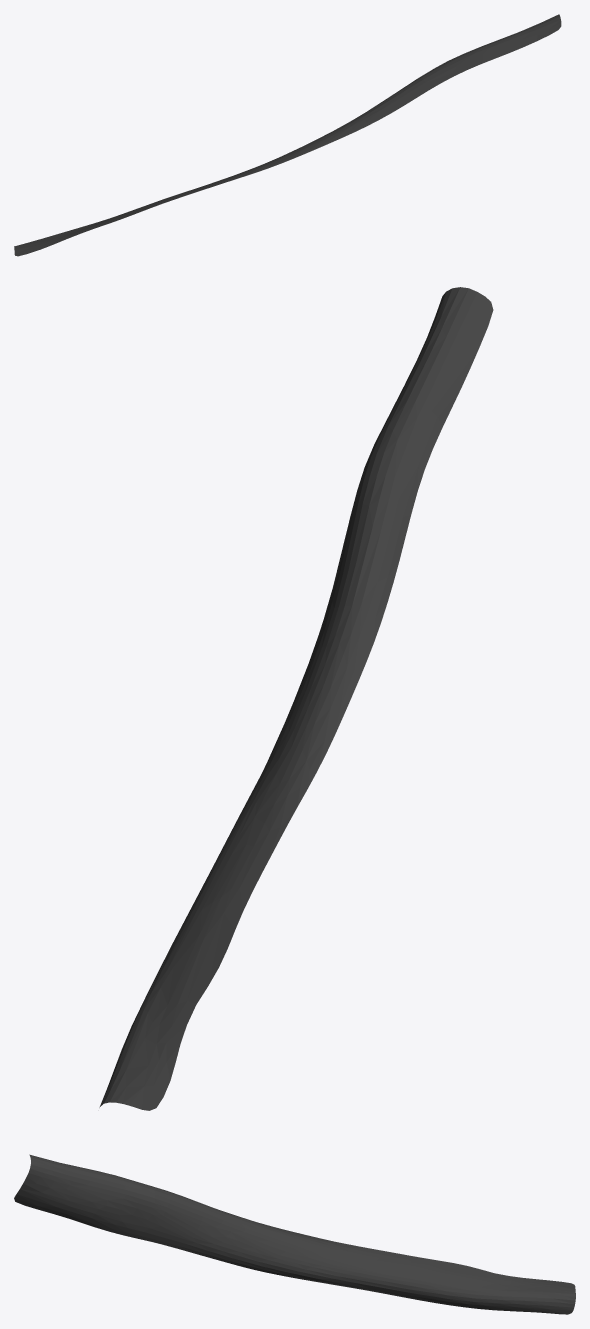
File: Scapula_caudal_border.glb
3 views of the same model, one above another, from view 1: azimuth 90°, elevation 25°; view 2: azimuth 150°, elevation 25°; view 3: azimuth 270°, elevation 25° (orthographic). The views are drawn at different scales.
Parts seen in each view (by area): view 1: Scapula_caudal_border; view 2: Scapula_caudal_border; view 3: Scapula_caudal_border.
Boxes of the visible parts, x1,y1,x2,y2 form: Scapula_caudal_border: (14, 14, 561, 256); Scapula_caudal_border: (99, 287, 493, 1110); Scapula_caudal_border: (14, 1154, 575, 1314).
Bounding box in the file's own units: 0.3449 × 0.5066 × 1.29.
Materials: 1 (1 with a texture image).
